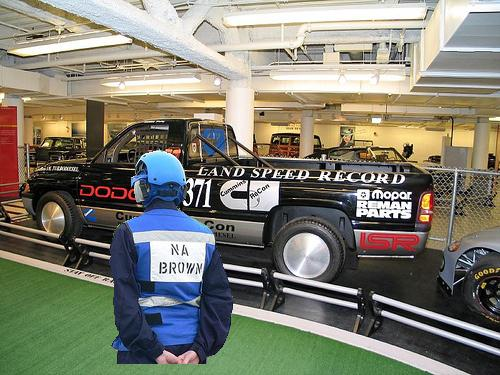tampered: (110, 151, 233, 364)
